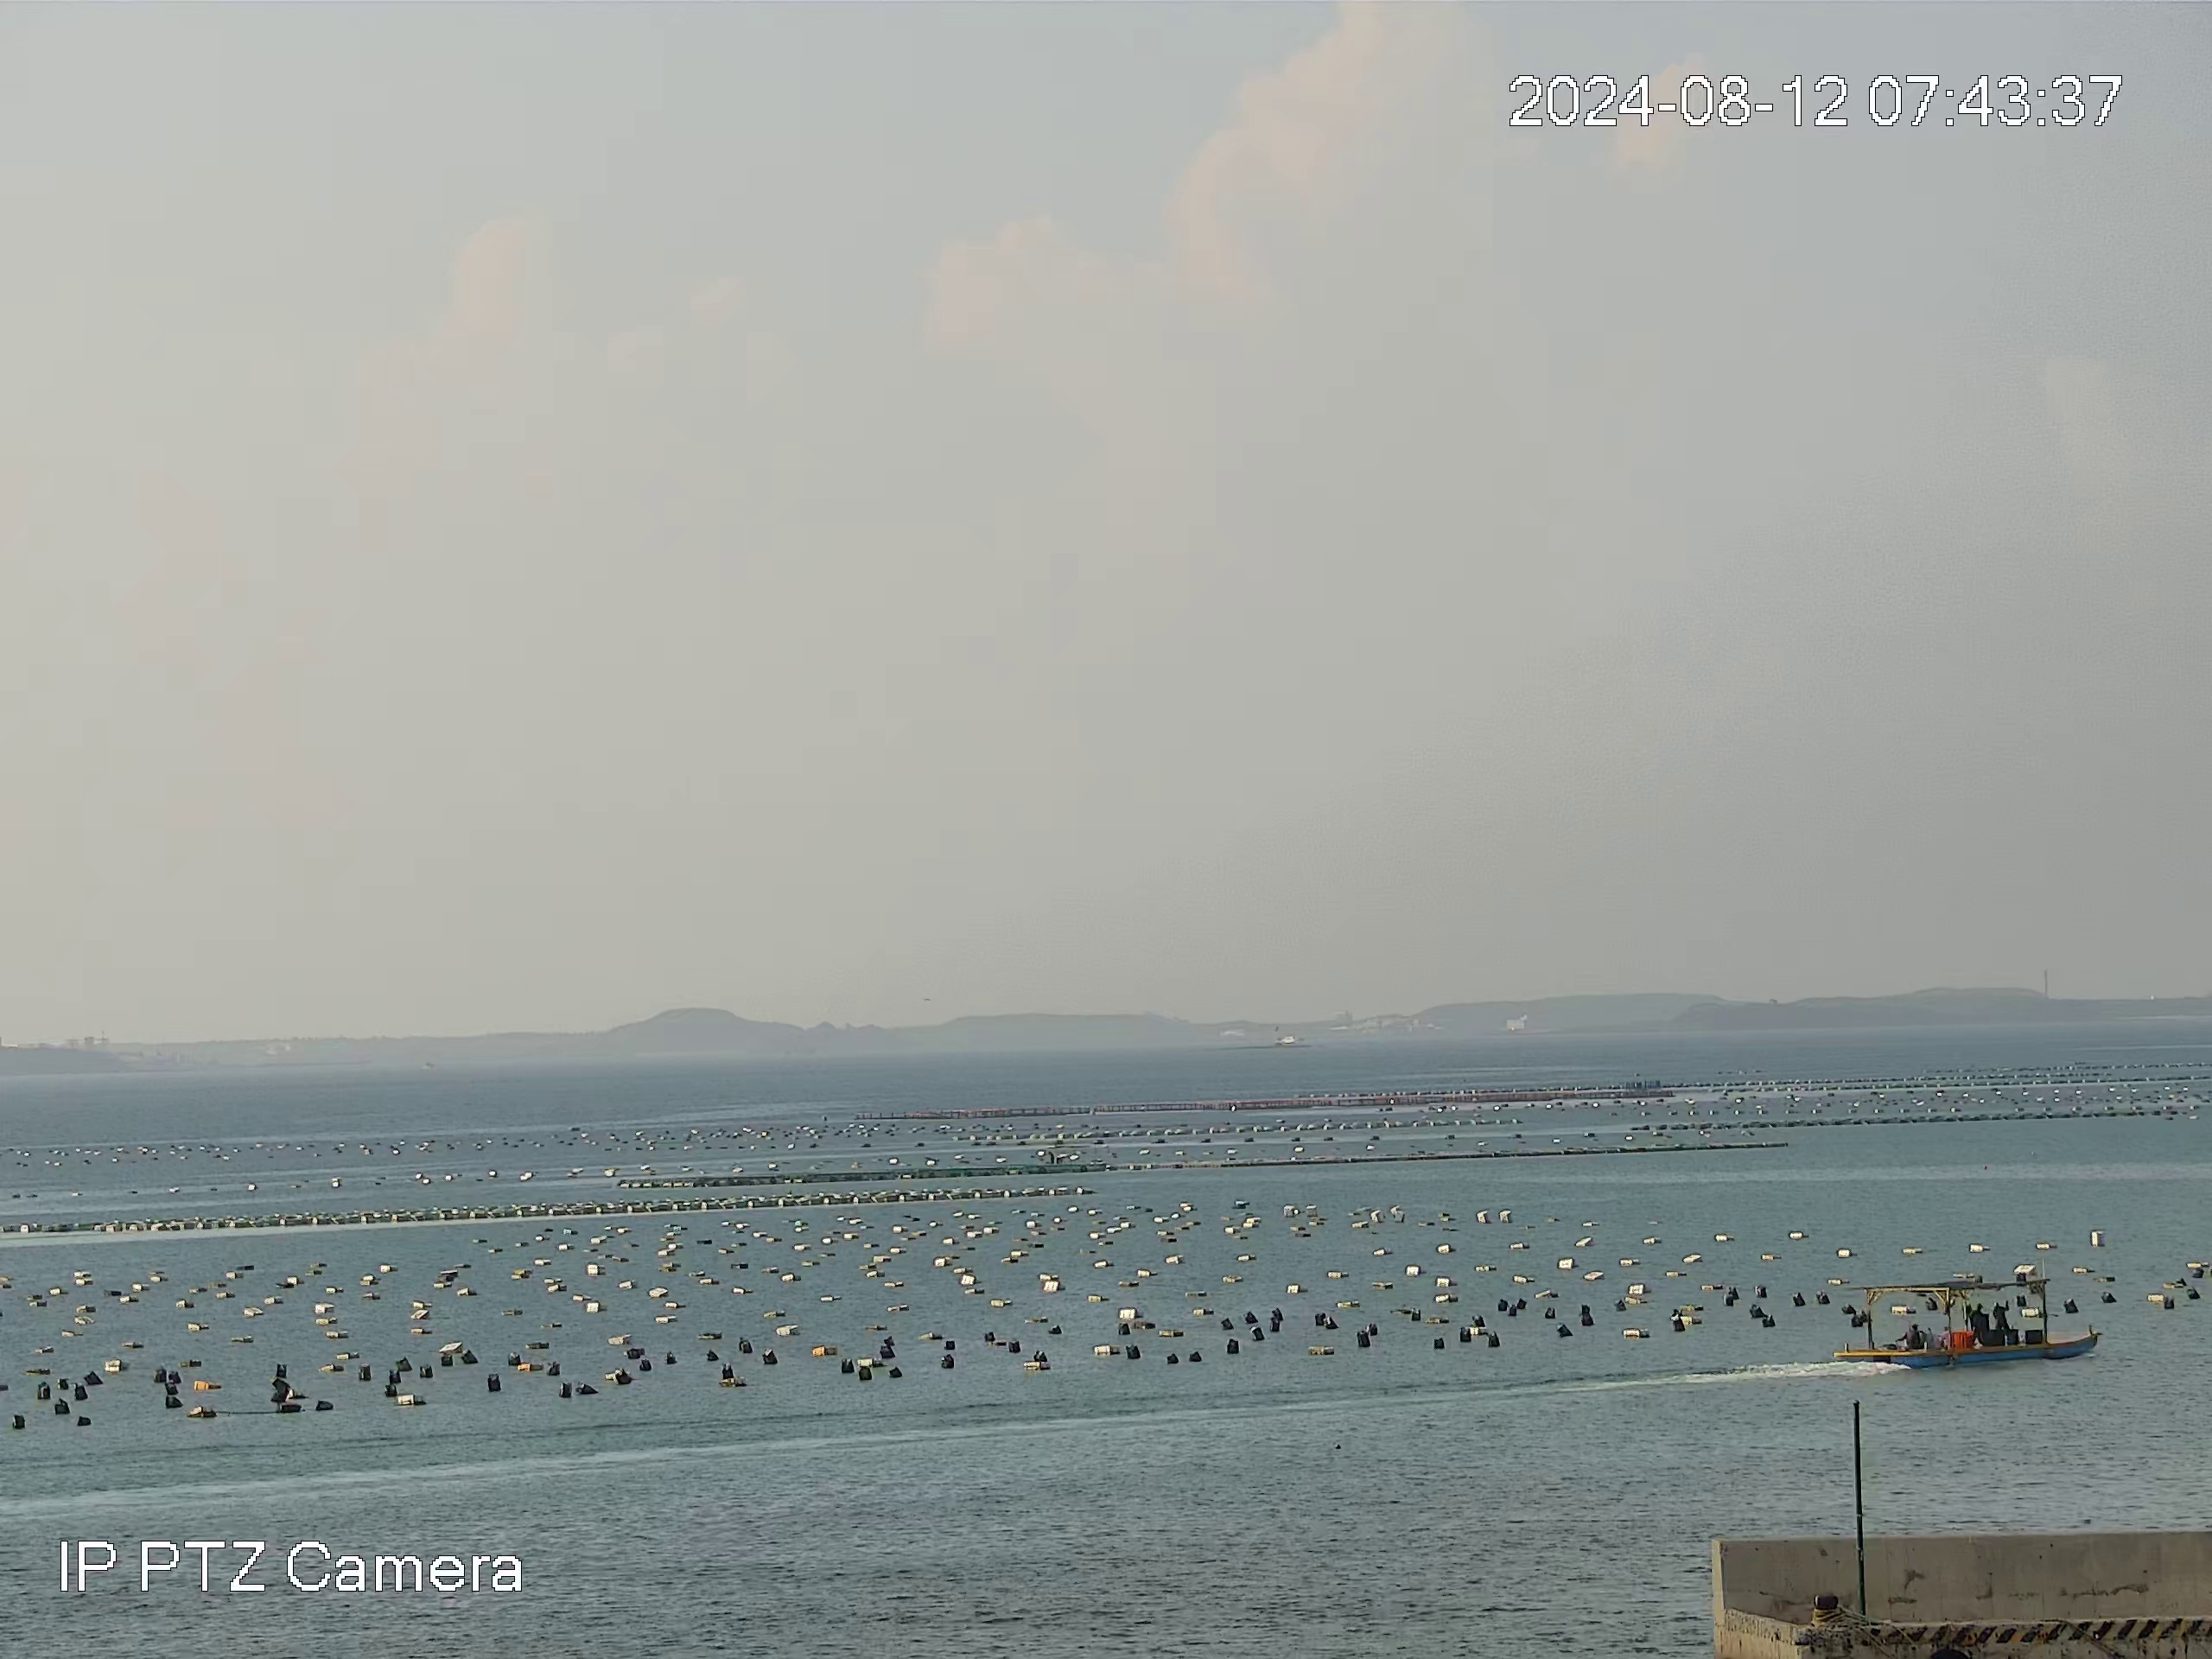boat: (1825, 1272, 2107, 1368)
